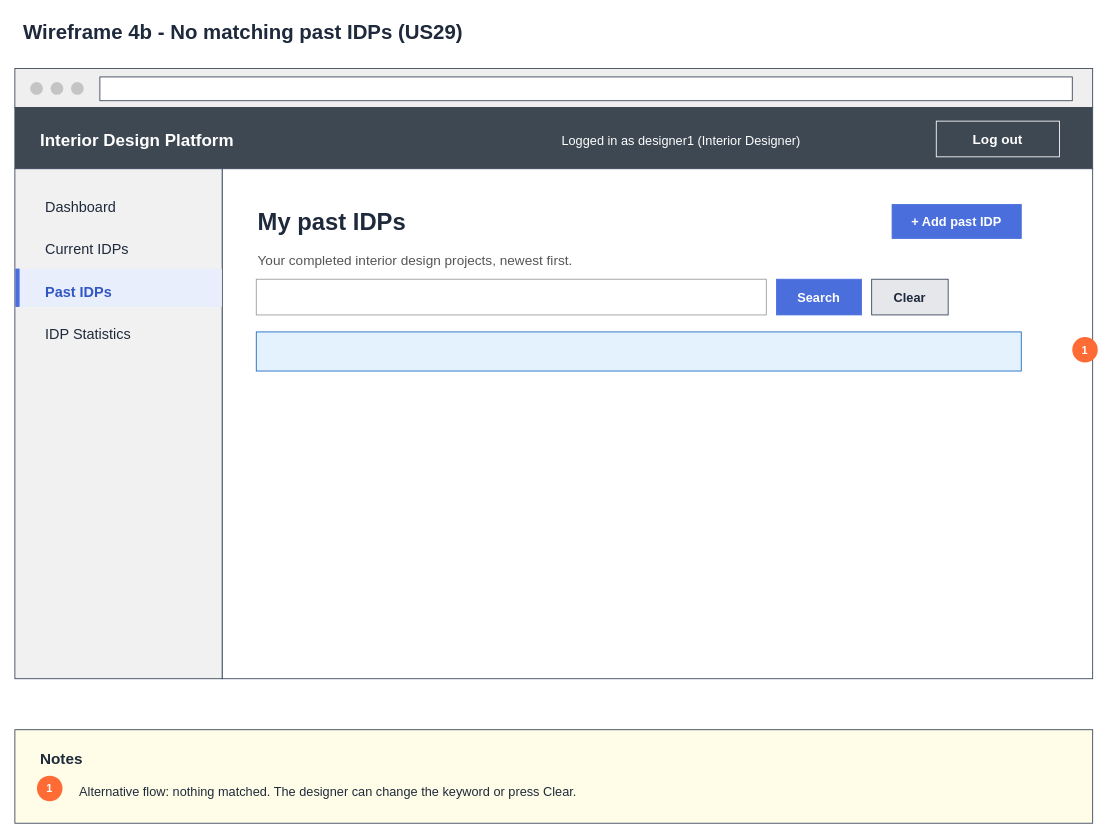
Image size: 1113x838. Some labels were removed from this diagram. The shapes that lost their labels are listed below. From the top down, each one's centre as x and y in pixels, then its label:
At point (585, 88): "localhost:5000/designer/past-idps/search?keyword=bathroom".
At point (510, 296): "bathroom".
At point (638, 351): "ℹ No past IDPs match your search".
